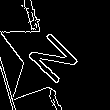N_SE: (21, 26, 84, 90)
